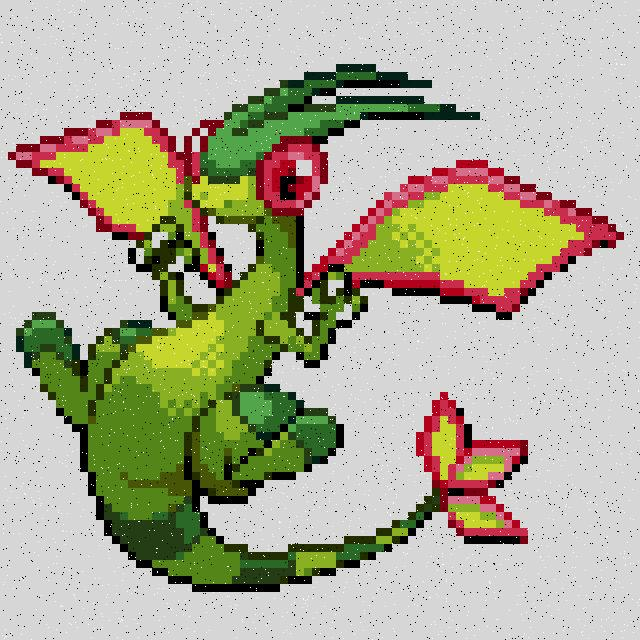flygon: (9, 68, 618, 598)
